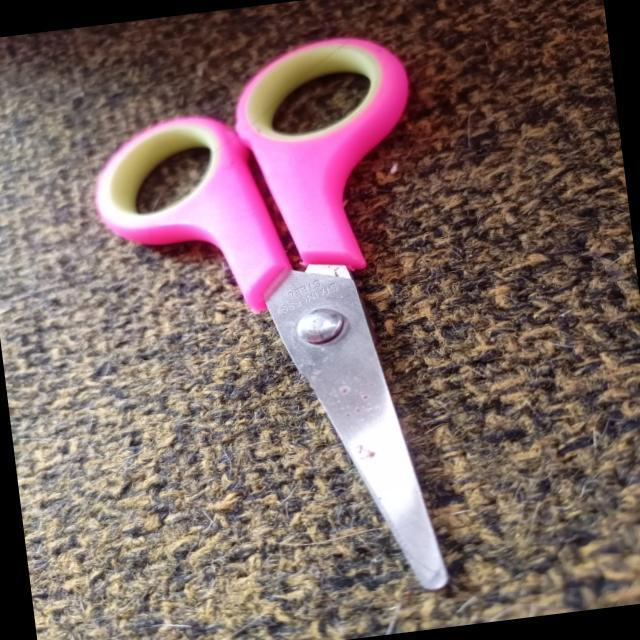scissors: (34, 0, 543, 640)
